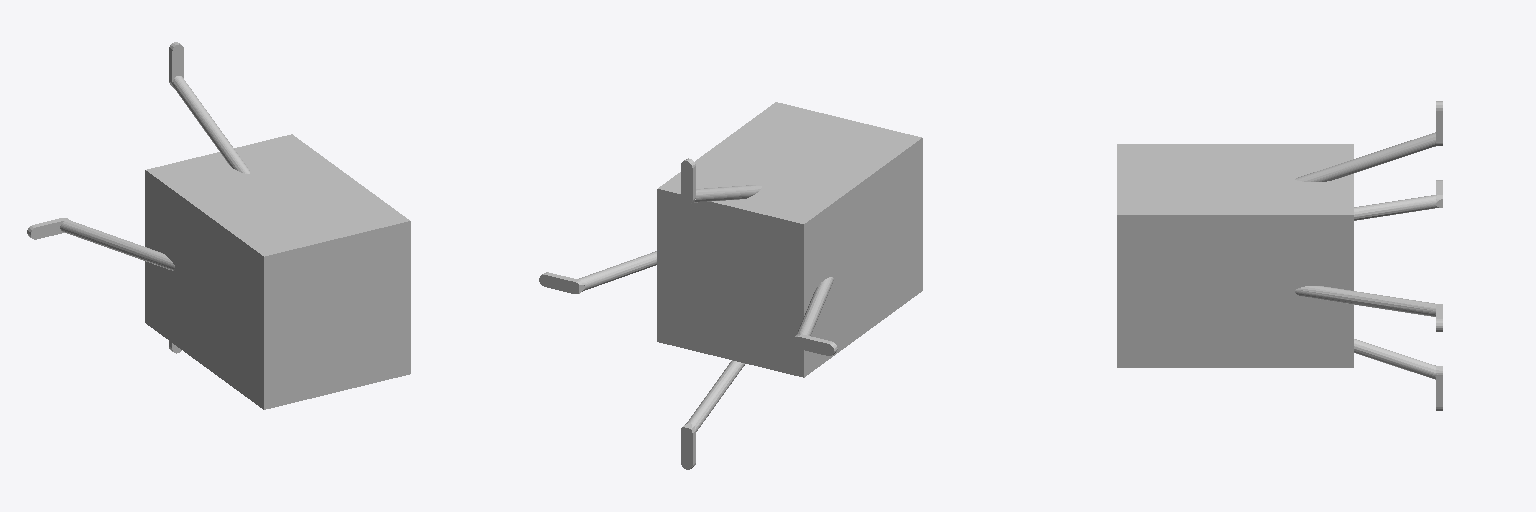
Rendered from memphis_kristall_body.obj.
3 renders of one model, left to right at view 1: azimuth 30°, elevation 25°; view 2: azimuth 150°, elevation 25°; view 3: azimuth 270°, elevation 25°, orthographic.
Parts seen in each view (by area): view 1: object_1; view 2: object_1; view 3: object_1.
Boxes of the visible parts, x1=… form: object_1: x1=27, y1=42, x2=410, y2=409; object_1: x1=539, y1=102, x2=922, y2=469; object_1: x1=1117, y1=101, x2=1442, y2=410.
Size of the model in its own units: 503 by 503 by 480.